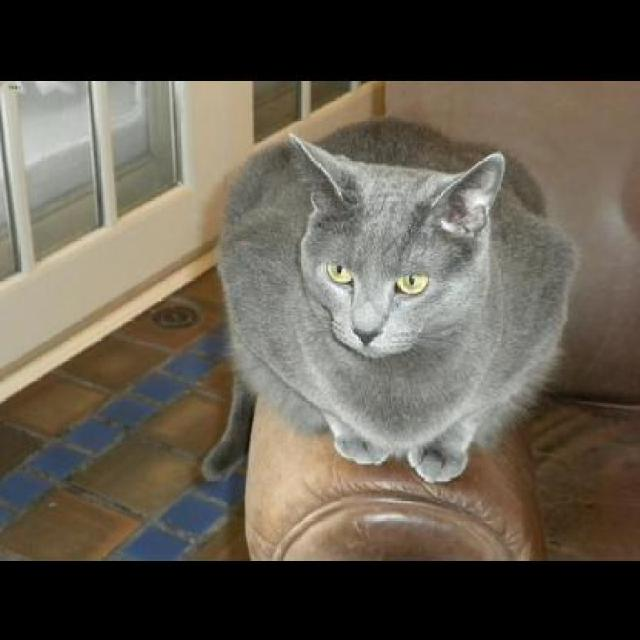unauthorized: (197, 113, 578, 484)
